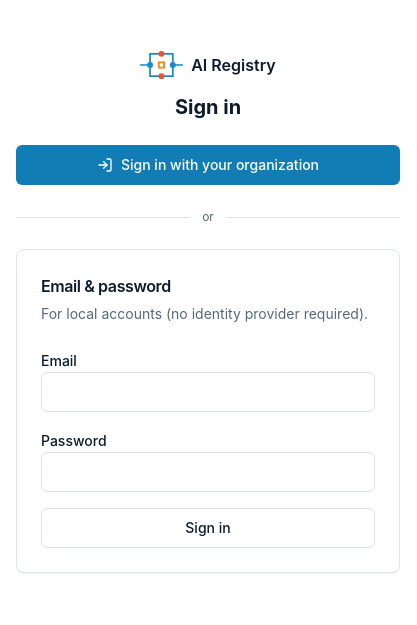
Test case: LoginPage › shows the error message when local login fails
Type "admin@example.com" into the field labelled "Email". click: (208, 392)
box: [41,372,375,412]
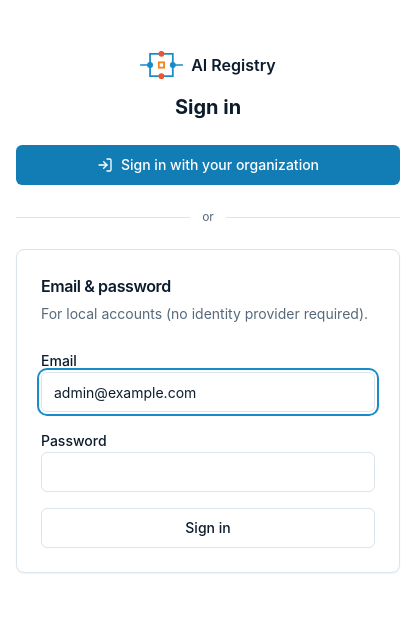
Type "wrong" into the password field labelled "Password". click: (208, 472)
box: [41,452,375,492]
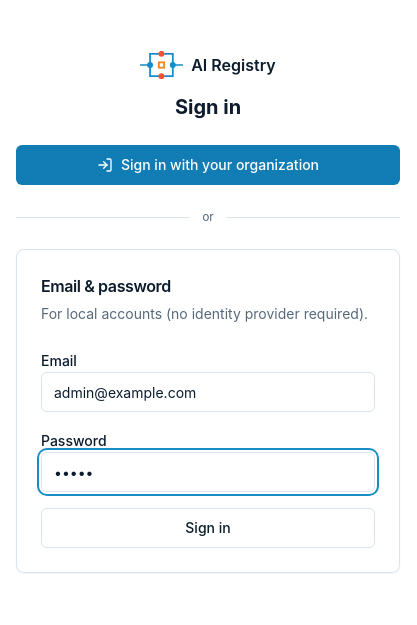
Click the button "Sign in". click: (208, 528)
box: [41,508,375,548]
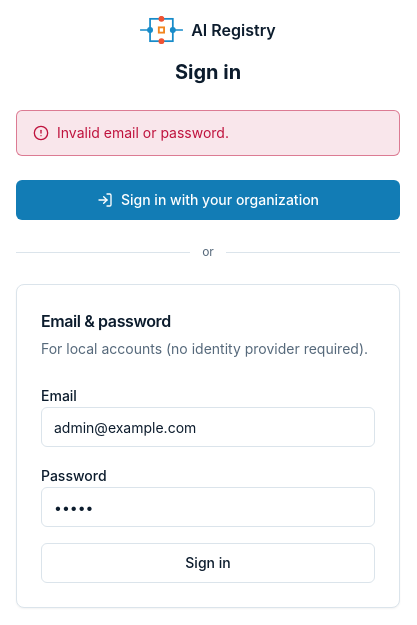
Expected: the message shows "Invalid email or password", [57,124,229,141]
